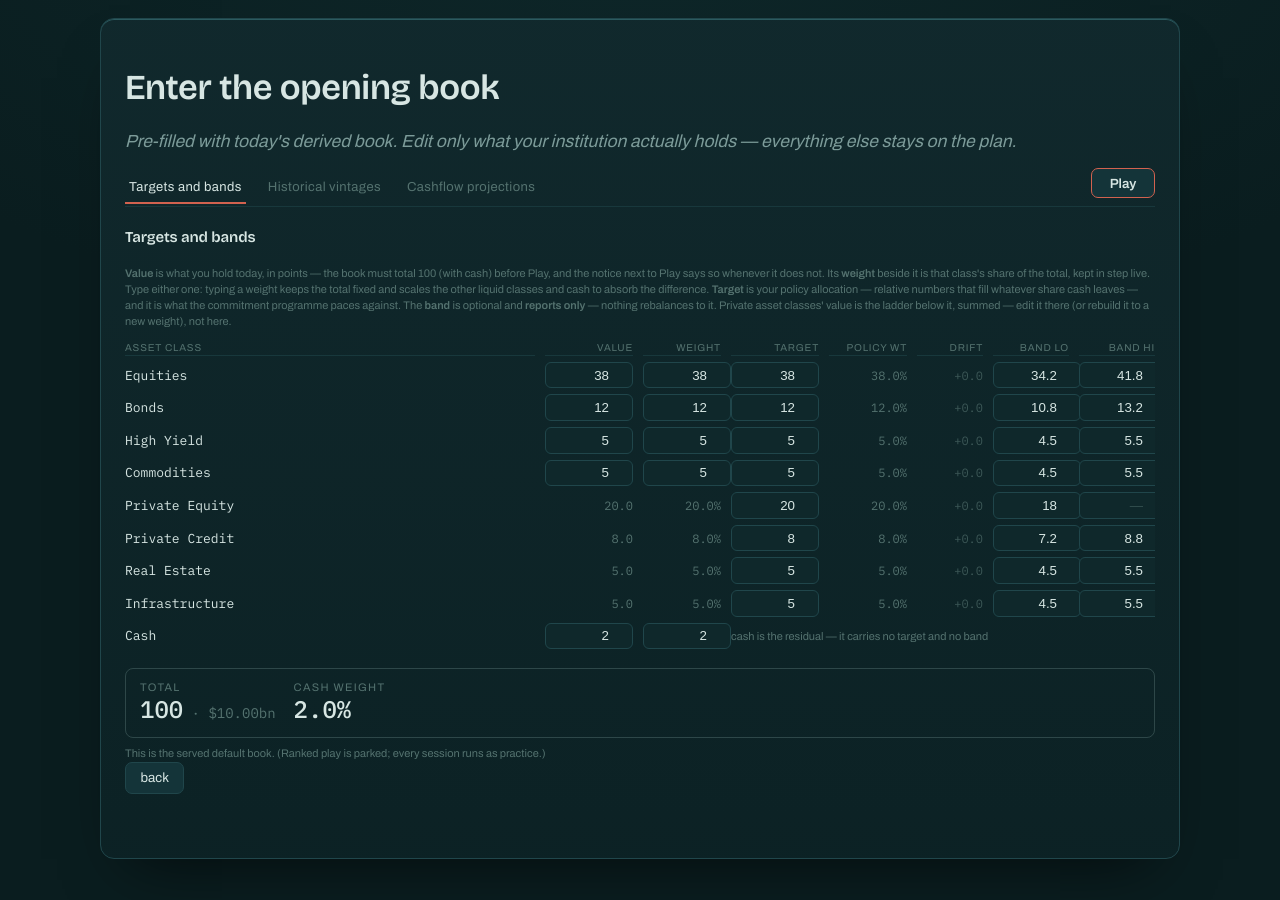
Scenario: BookEntry — policy targets and reporting bands › a band entered on one side only blocks the commit
Clear the number field with placeholder "—" at (1123, 506), box left=1079, top=492, right=1167, bottom=519
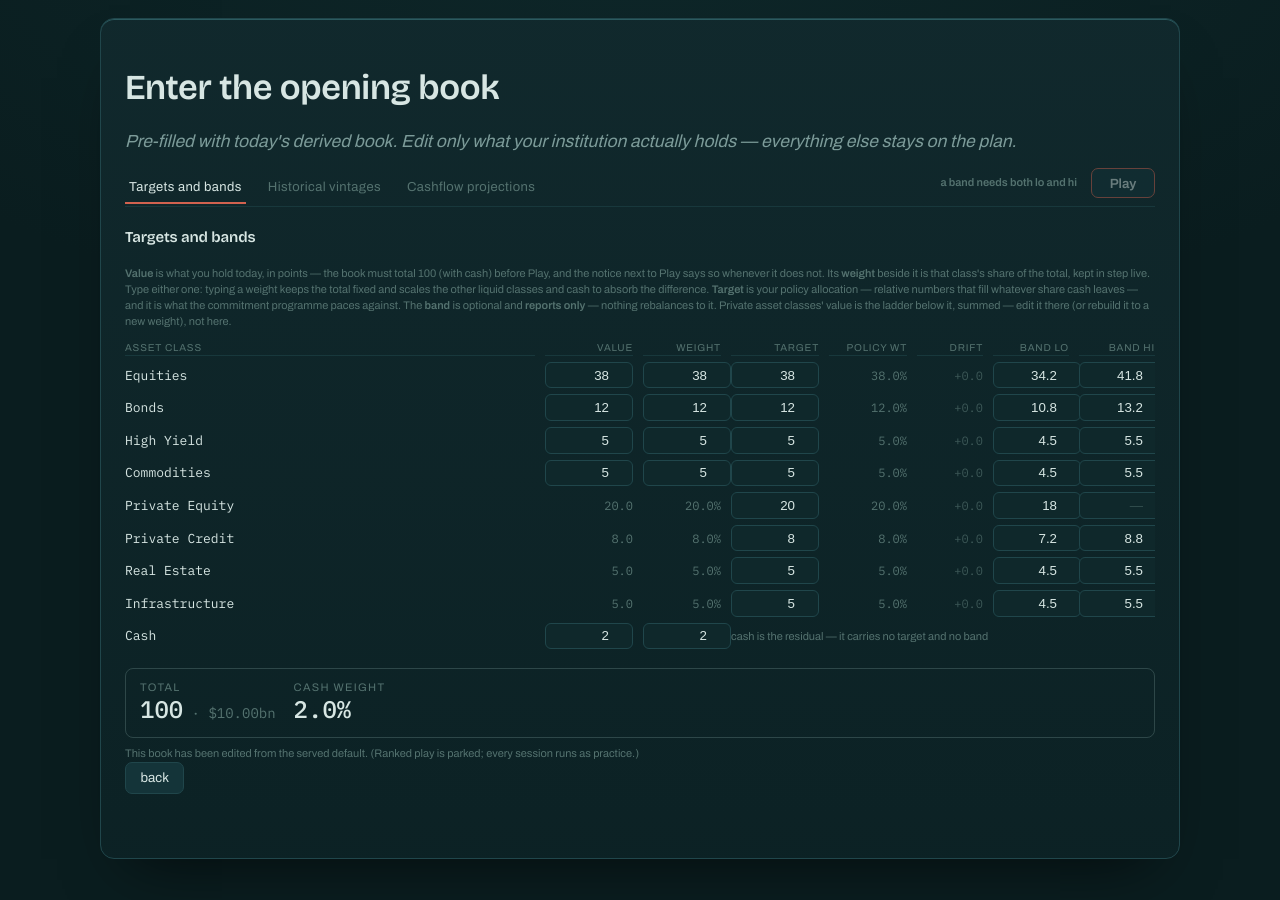
Now the button "Play" is disabled, box left=1091, top=168, right=1155, bottom=198
Now the text with test id "shape-faults" shows "both lo and hi", box left=940, top=176, right=1077, bottom=188
